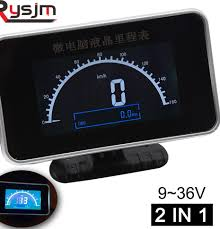Digital_Meter: (70, 104, 148, 122)
